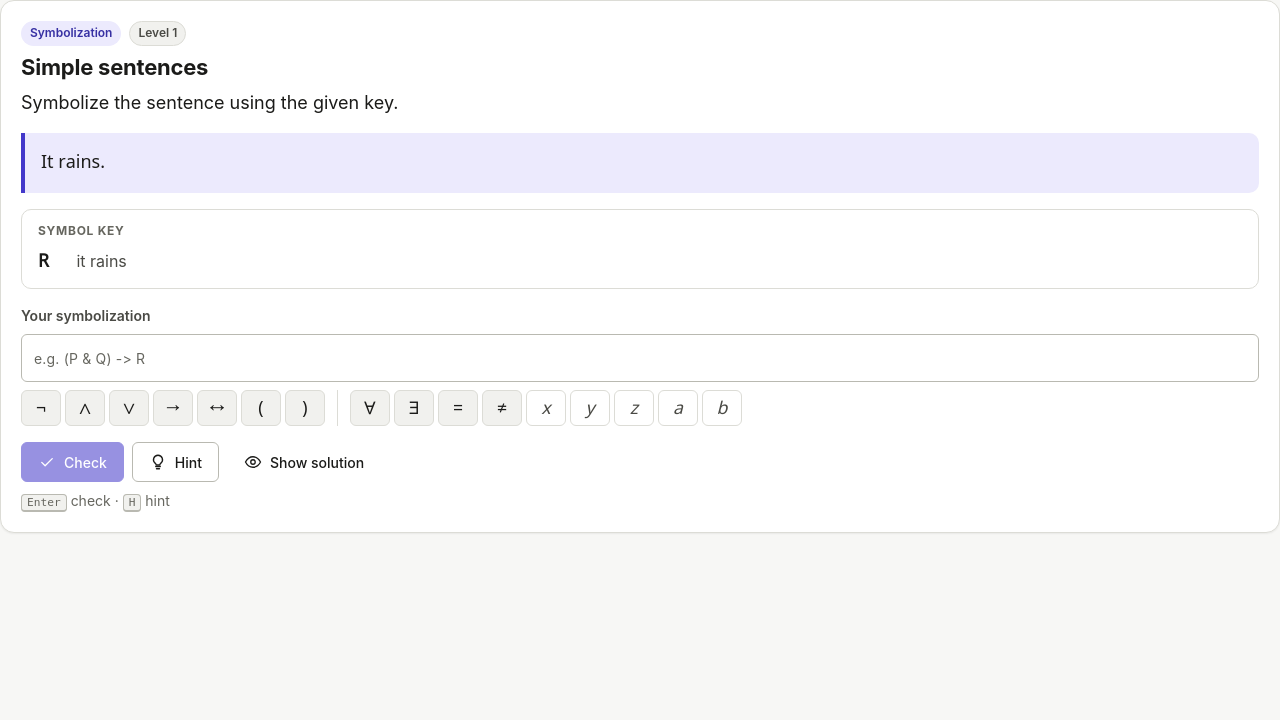
Test: symbolization: Enter checks, feedback is shown and the attempt is recorded
This screenshot has width=1280, height=720.
Step 1. Type "R" into the field labelled "Your symbolization" → (640, 358), box [22,335,1258,381]
Then press Enter
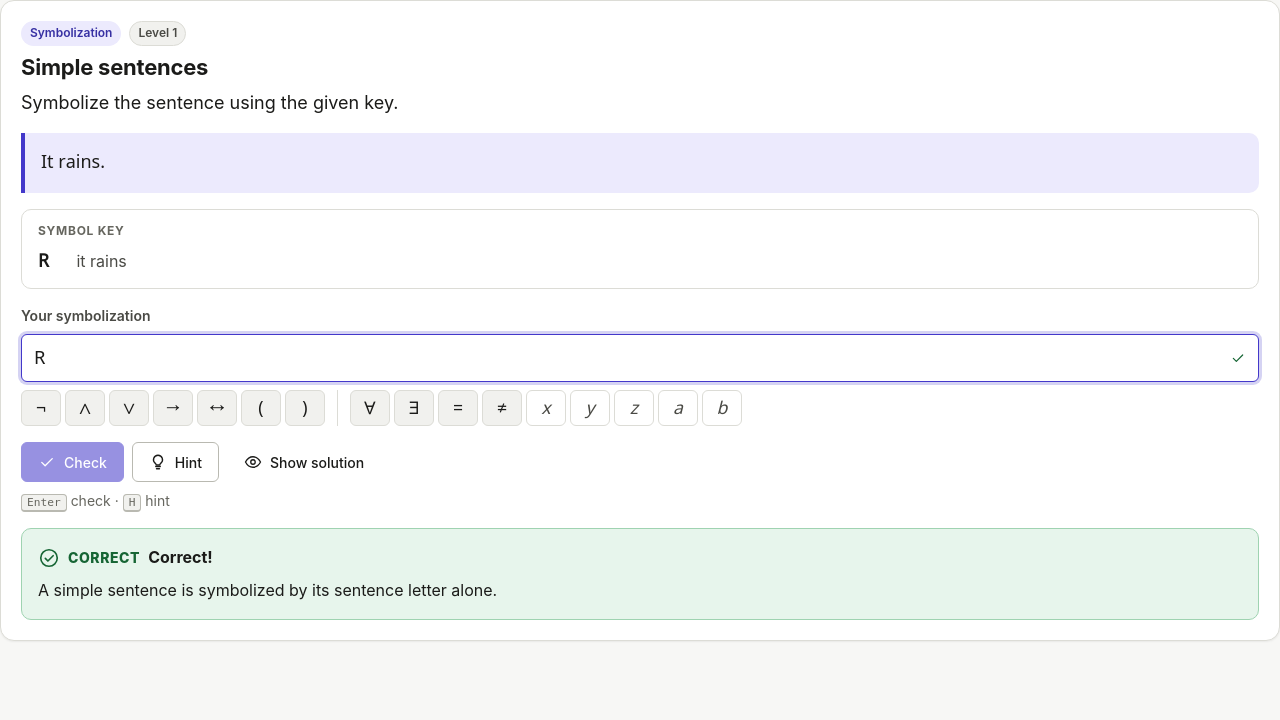
Expected: the message with test id "feedback" shows "Correct", [68,549,140,566]
